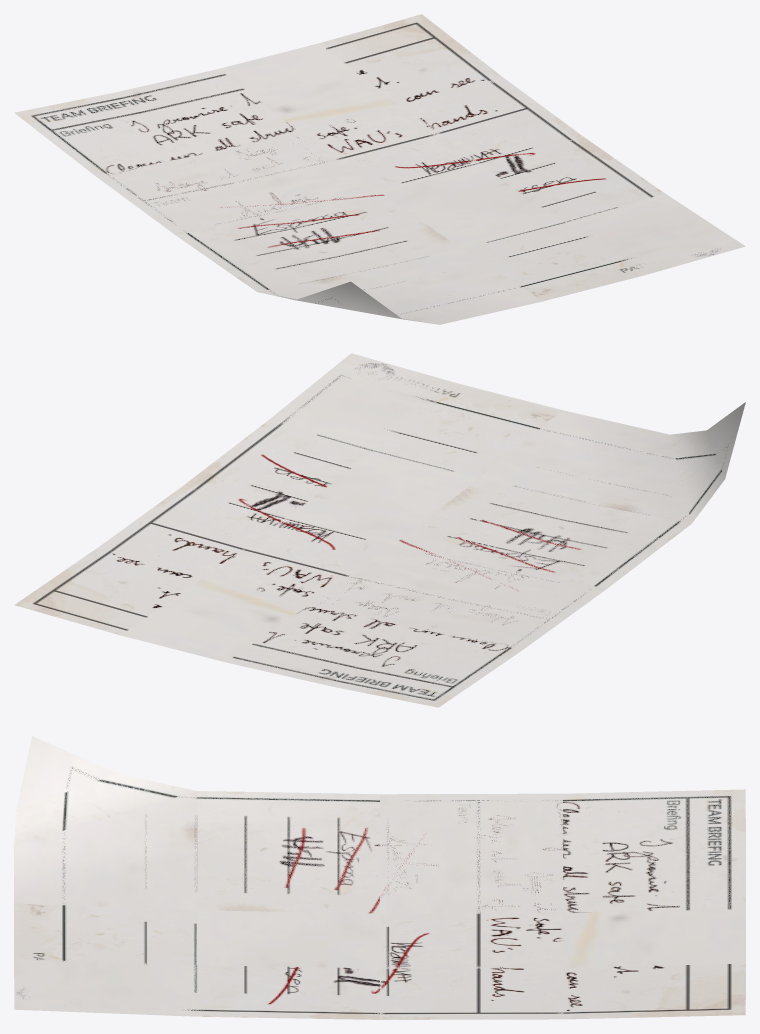
Rendered from note_comroom_tau_01.dae.
3 renders of one model, top to bottom at view 1: azimuth 30°, elevation 25°; view 2: azimuth 150°, elevation 25°; view 3: azimuth 270°, elevation 25°, orthographic. The views are drawn at different scales.
Visible parts, largest first — view 1: tau_note; view 2: tau_note; view 3: tau_note.
Boxes of the visible parts, left/top/right/bottom form: tau_note: left=14, top=14, right=745, bottom=324; tau_note: left=14, top=353, right=745, bottom=707; tau_note: left=14, top=736, right=745, bottom=1019.
Bounding box in the file's own units: 0.2536 × 0.0404 × 0.3491.
